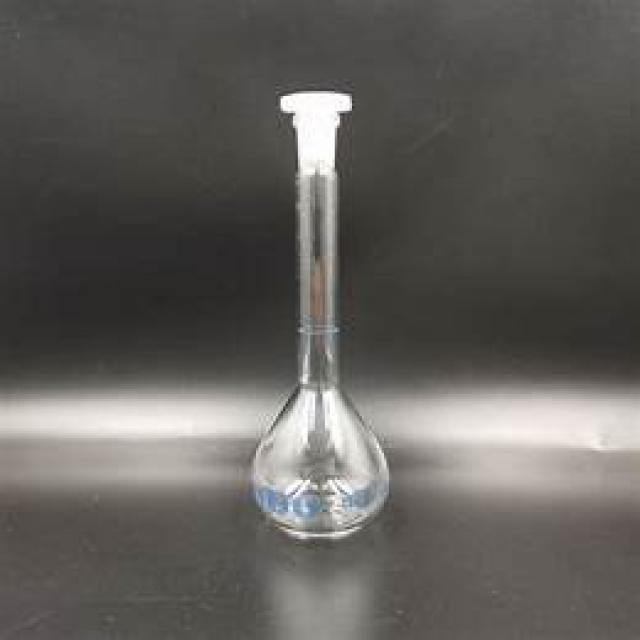Volumetric flask: (227, 78, 394, 541)
